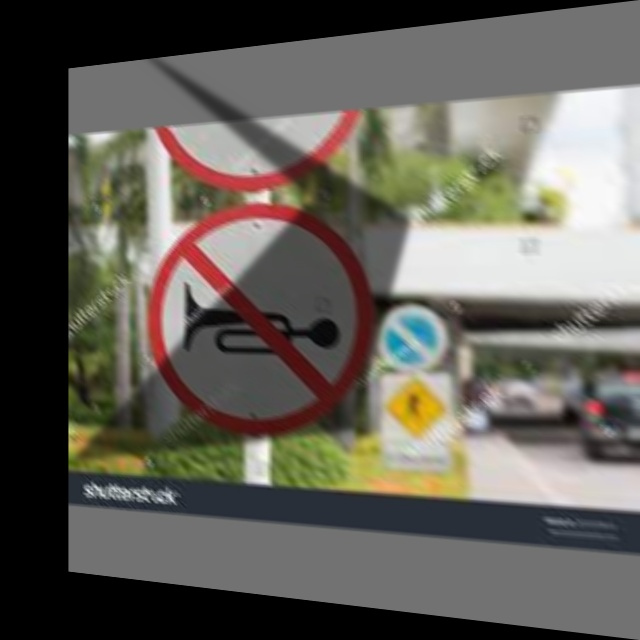Horn_Prohibited: (161, 202, 361, 432)
